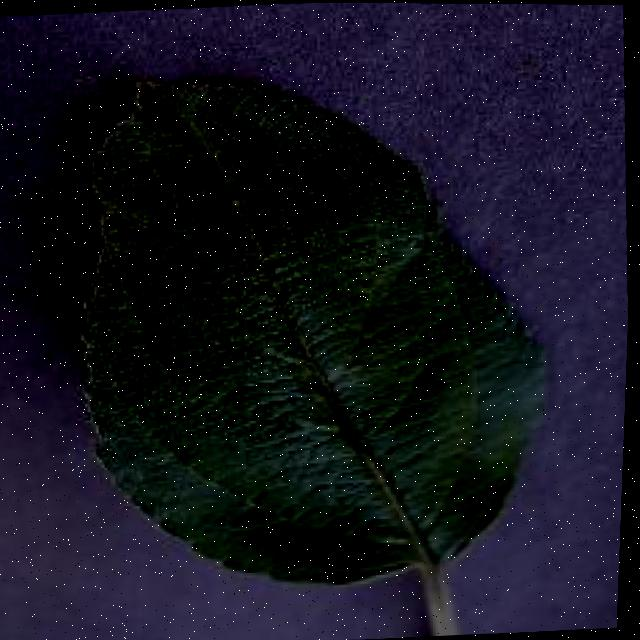healthy: (36, 39, 577, 619)
